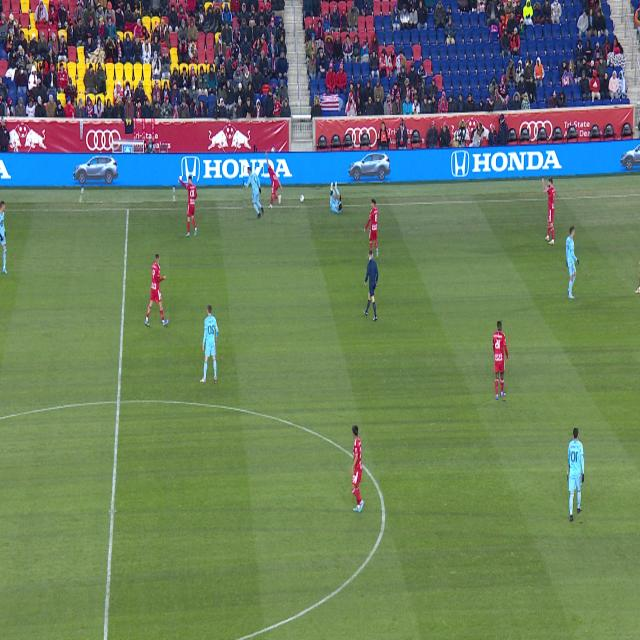player: (145, 254, 169, 326), (568, 428, 584, 522), (200, 305, 219, 382), (493, 322, 508, 400), (178, 177, 197, 236), (351, 426, 364, 512), (243, 168, 264, 219), (266, 151, 283, 209), (566, 227, 579, 298), (364, 199, 379, 257), (542, 178, 555, 244), (0, 202, 7, 274), (330, 182, 342, 213), (635, 260, 640, 294)
referee: (363, 251, 378, 320)
